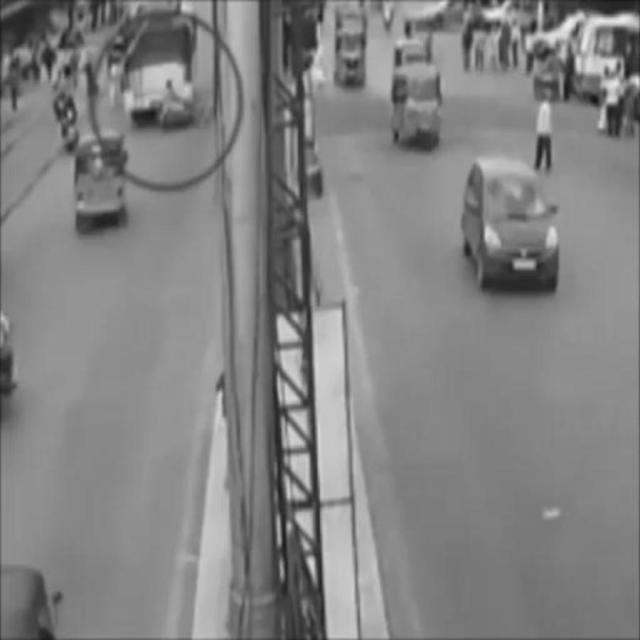accident: (123, 16, 204, 126)
person: (538, 93, 554, 173)
vehicle: (467, 159, 558, 290), (74, 140, 129, 238), (393, 65, 444, 148)
